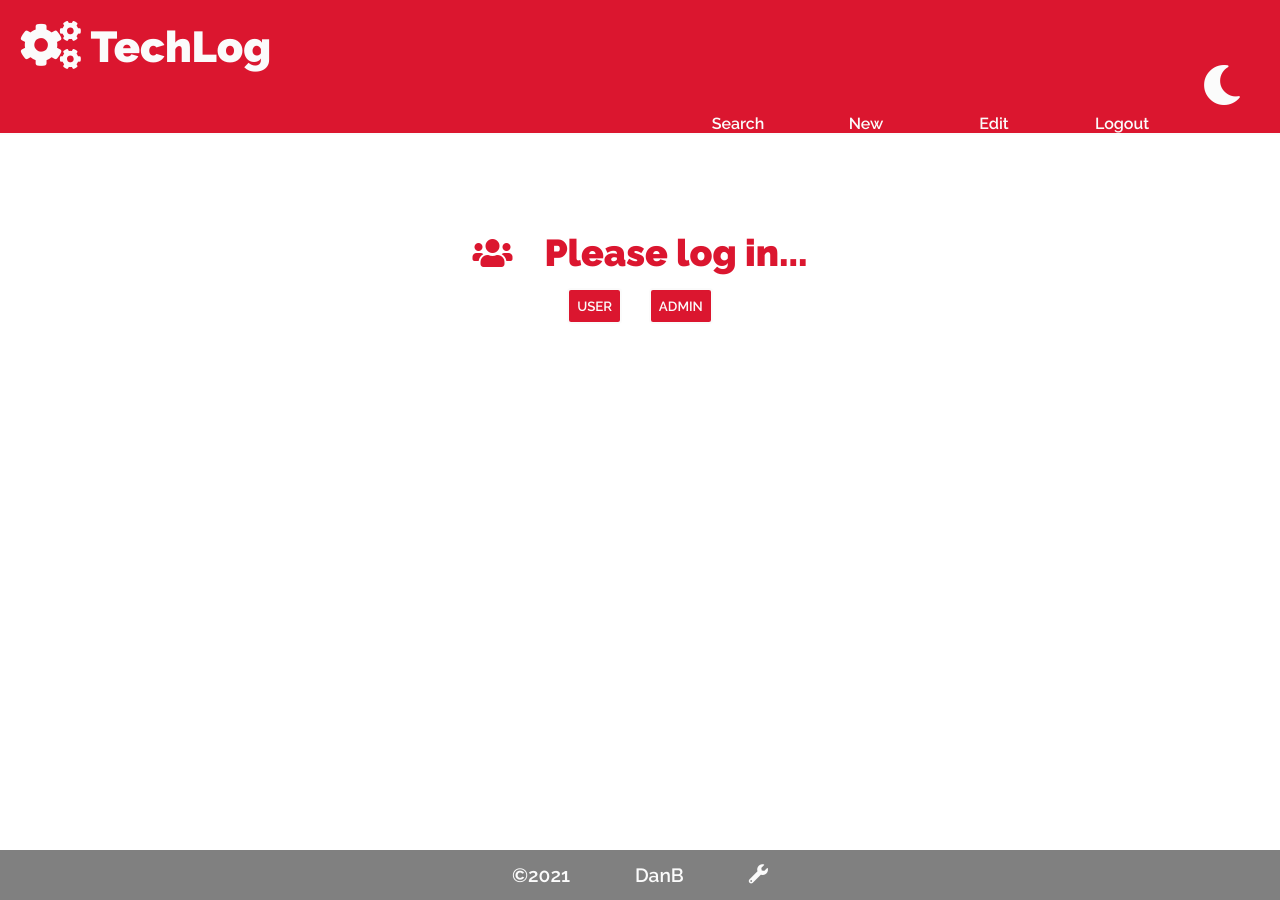
Test case: Loggout page › Should remove other navigation links on Log In page
The image size is (1280, 900).
Step 1. Click the link "Logout" → (1122, 124), box [1095,114,1149,133]
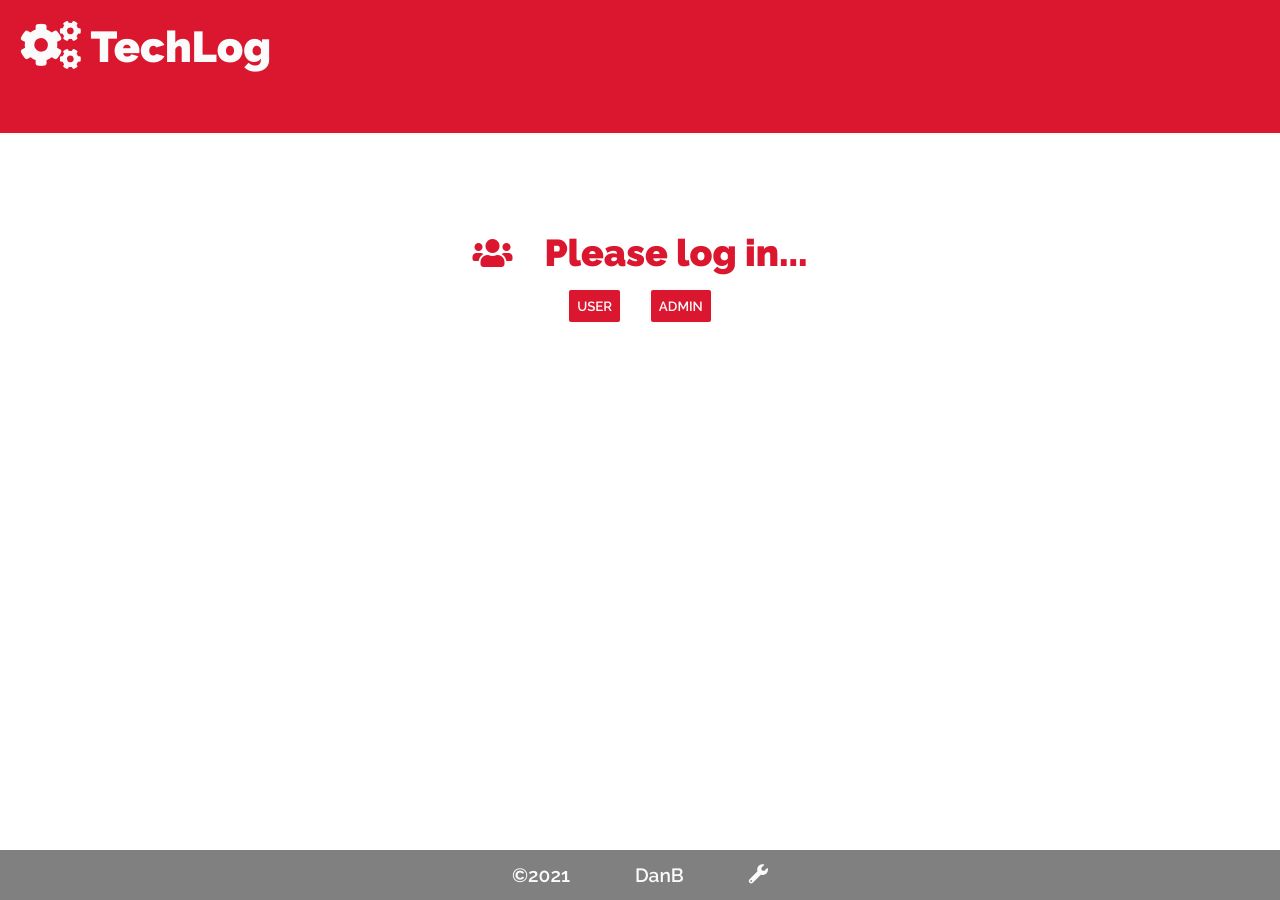
Now the link "New" is gone
Now the link "Search" is gone
